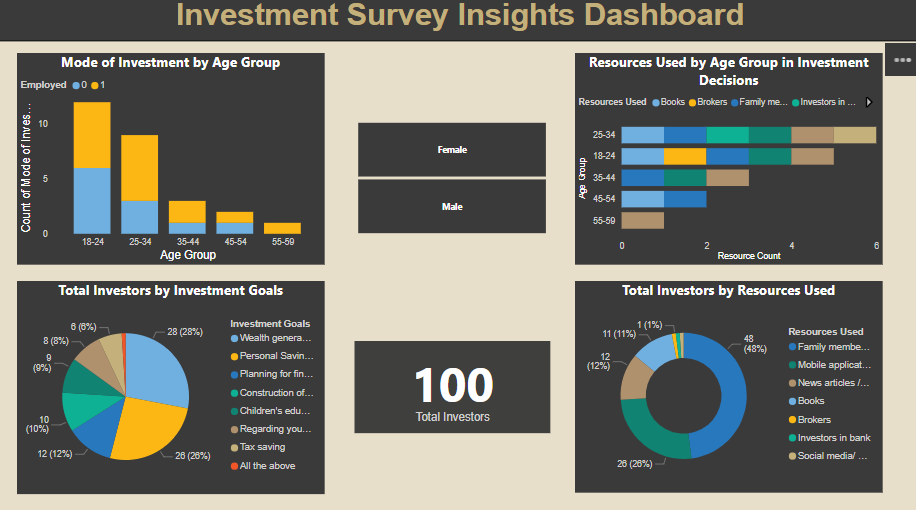

Layout of this report page (visuals, bound fields, positions):
{"tool":"powerbi","page":{"name":"Page 1","canvas":[1280,720],"ordinal":0},"visuals":[{"type":"columnChart","title":"Mode of Investment by Age Group ","fields":{"Category":["Investment Survey.Age Group"],"Y":["Count(Investment Survey.Mode of Investment)"],"Series":["Investment Survey.Employed"]},"box":[23.9,84.8,426.1,293.5],"z":0},{"type":"barChart","title":"Resources Used by Age Group in Investment Decisions","fields":{"Y":["Investment Survey.Resource Count"],"Category":["Investment Survey.Age Group"],"Series":["Investment Survey.Resources Used"]},"box":[800,84.8,426.1,293.5],"z":4},{"type":"pieChart","fields":{"Category":["Investment Survey.Investment Goals"],"Y":["Investment Survey.Total Investors"]},"box":[22.5,400,427.5,295],"z":6},{"type":"card","fields":{"Values":["Investment Survey.Total Investors"]},"box":[493.5,482.6,271.7,128.3],"z":7},{"type":"donutChart","fields":{"Category":["Investment Survey.Resources Used"],"Y":["Investment Survey.Total Investors"]},"box":[800,400,426.1,293.5],"z":8},{"type":"slicer","fields":{"Values":["Investment Survey.Gender"]},"box":[473.9,173.9,310.9,167.4],"z":9},{"type":"textbox","box":[0,0,1280.4,67.4],"z":10}]}

Visuals, with their boxes in screenshot pixels (x1, y1, x2, y2), scaled from the page's 1280x720 canvas onto the 916x510 screenshot:
"Mode of Investment by Age Group " columnChart: {"left": 17, "top": 60, "right": 322, "bottom": 268}
"Resources Used by Age Group in Investment Decisions" barChart: {"left": 572, "top": 60, "right": 877, "bottom": 268}
pieChart - Investment Survey.Investment Goals x Investment Survey.Total Investors: {"left": 16, "top": 283, "right": 322, "bottom": 492}
card - Investment Survey.Total Investors: {"left": 353, "top": 342, "right": 548, "bottom": 433}
donutChart - Investment Survey.Resources Used x Investment Survey.Total Investors: {"left": 572, "top": 283, "right": 877, "bottom": 491}
slicer - Investment Survey.Gender: {"left": 339, "top": 123, "right": 562, "bottom": 242}
textbox: {"left": 0, "top": 0, "right": 915, "bottom": 48}
